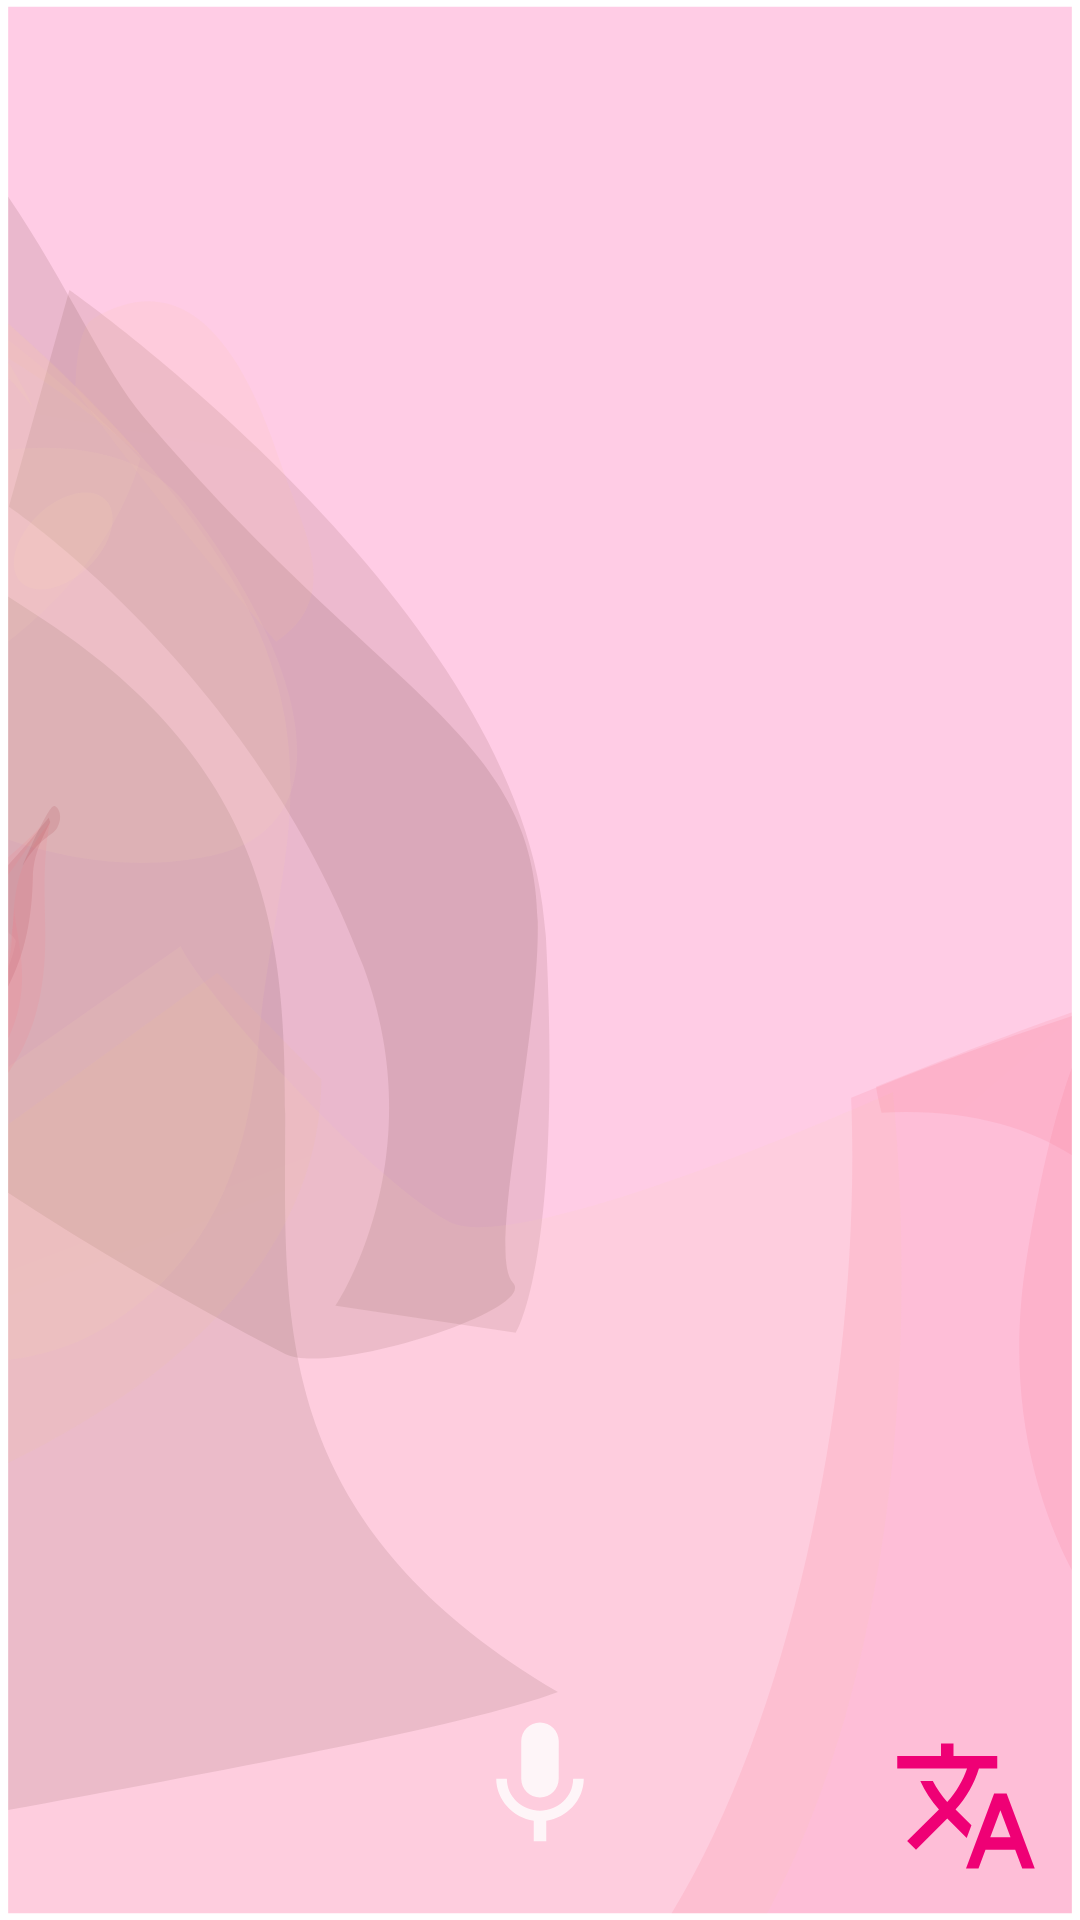

Named icons in this screenshot (1080w x 1920h) and their bounding boxes, (x1, y1, x2, y2):
language translation: (897, 1743, 1035, 1869)
mic: (496, 1723, 584, 1841)
